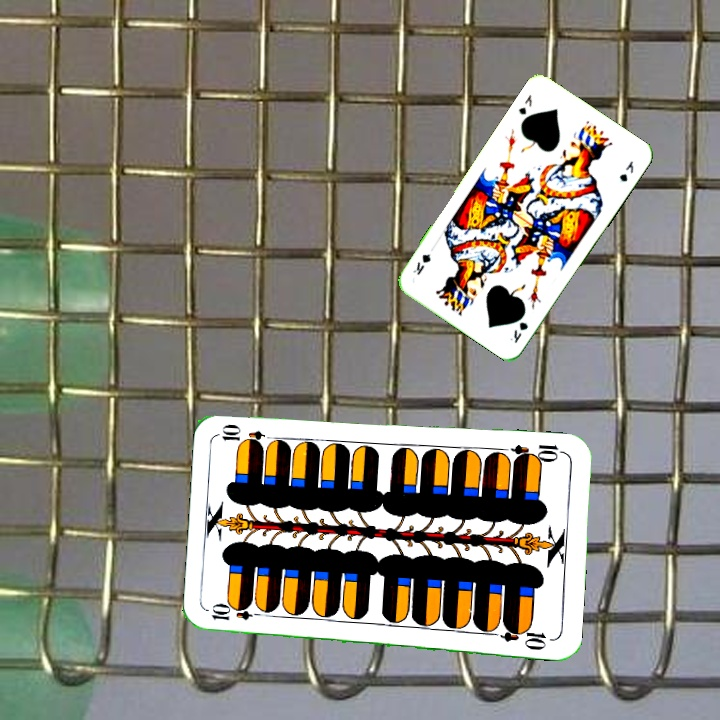E10: (508, 440, 567, 465), (207, 604, 267, 623)
GK: (506, 318, 531, 346), (514, 90, 535, 117)
